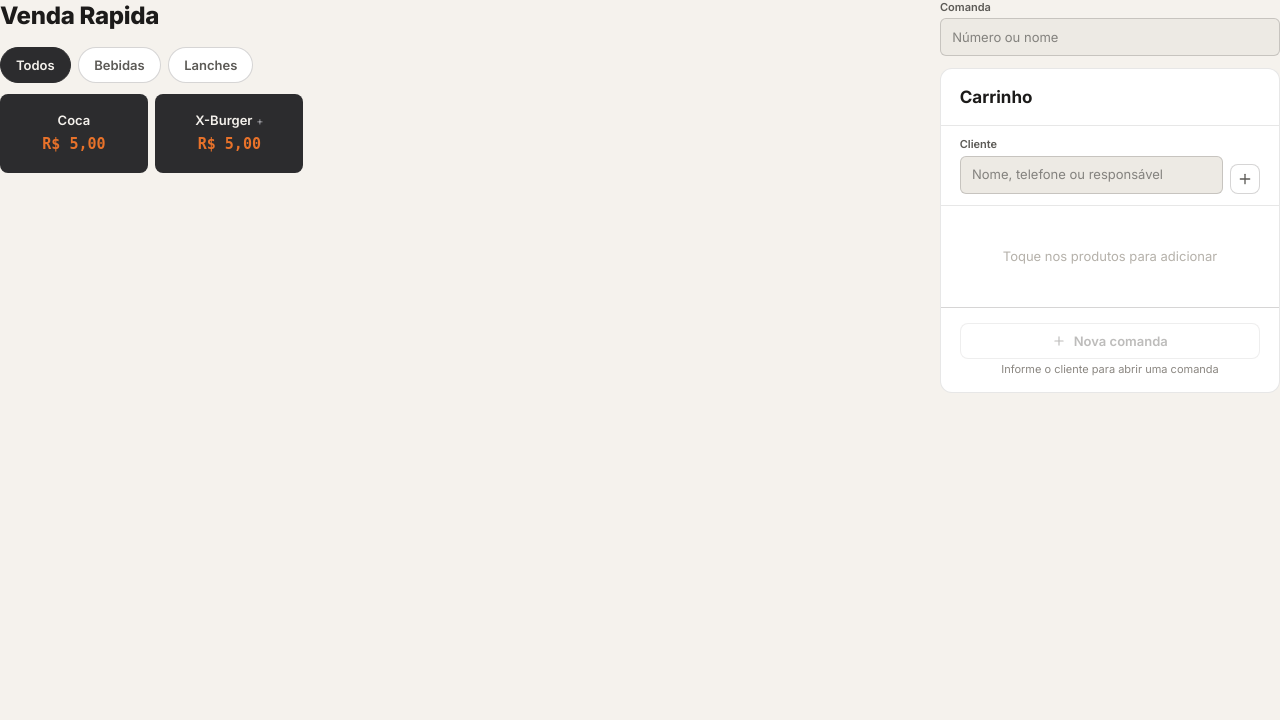
PdvPage › fecha o cadastro rápido de cliente sem vincular
Expected: the text "Coca" is shown, [58,111,90,129]
Click the button named "Cadastrar cliente" at [1245, 179], box [1230,164,1260,194]
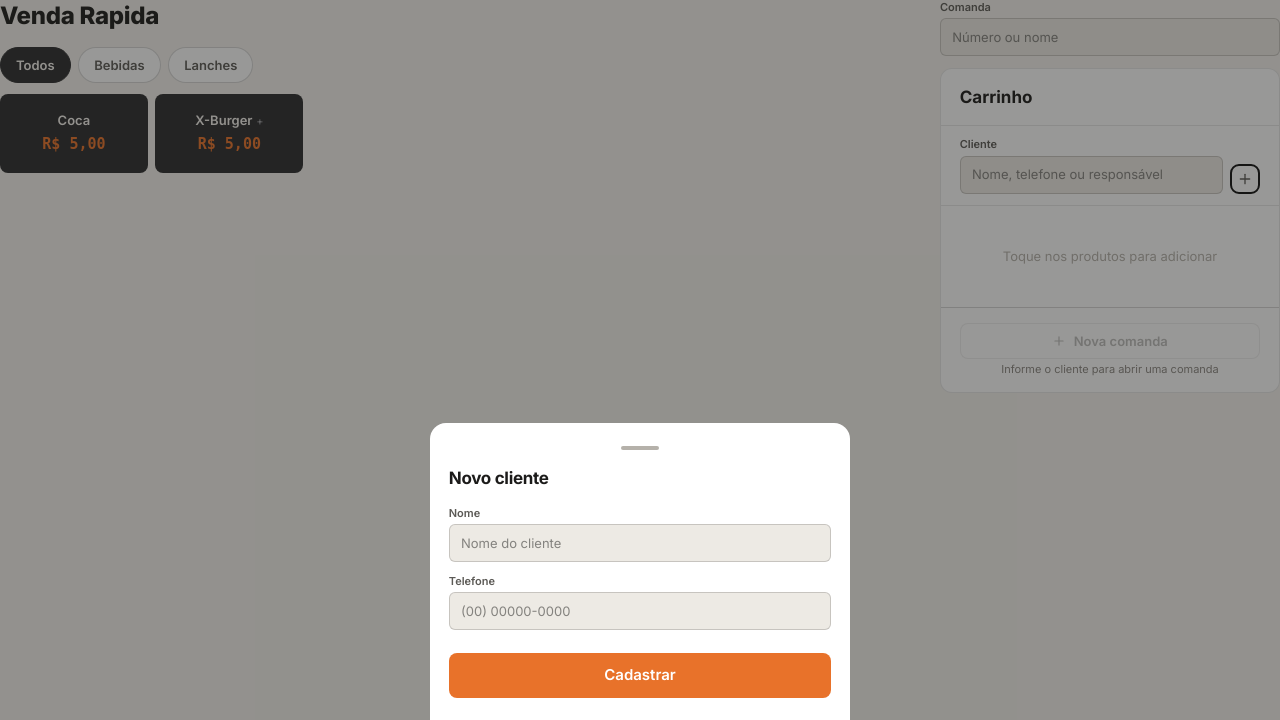
Result: the dialog "Novo cliente" is shown at [430,423,850,719]
Press Escape
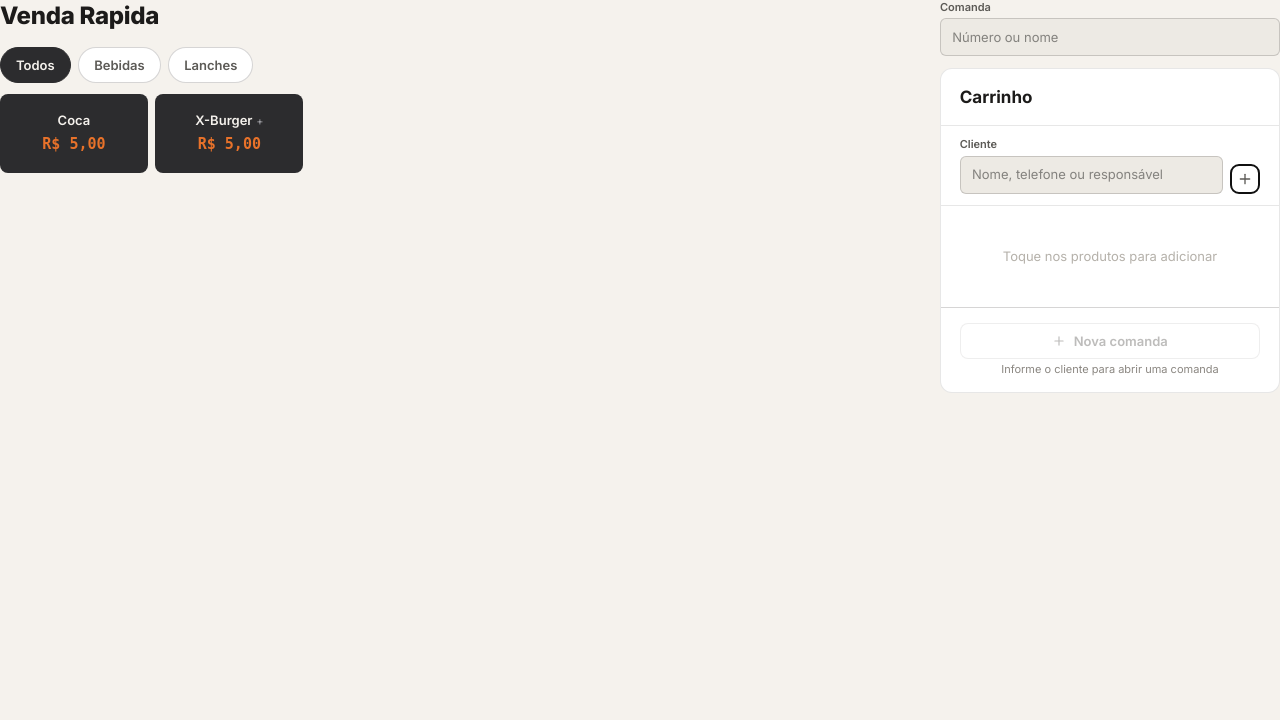
Result: the dialog is gone
